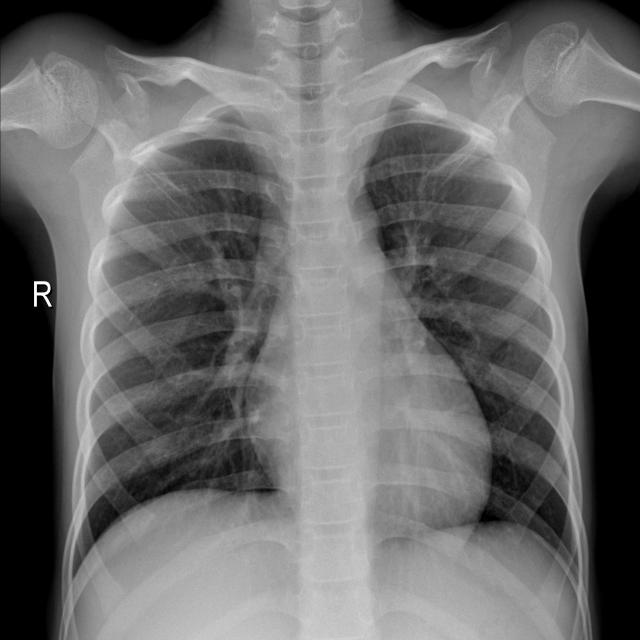no-pneumonia: (361, 113, 583, 560), (74, 137, 289, 563)
